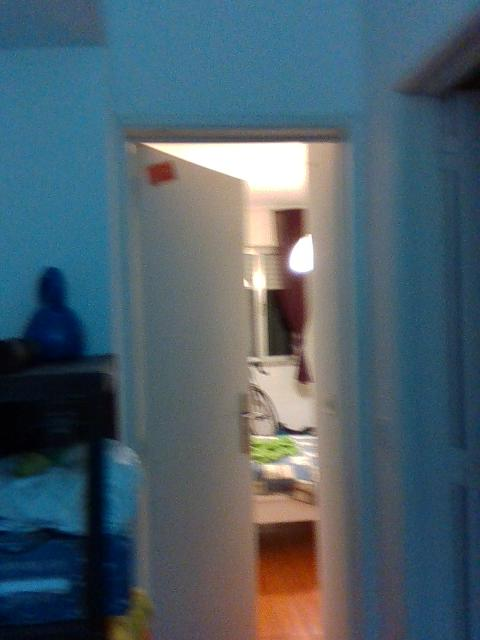semi_door: (118, 105, 379, 639)
